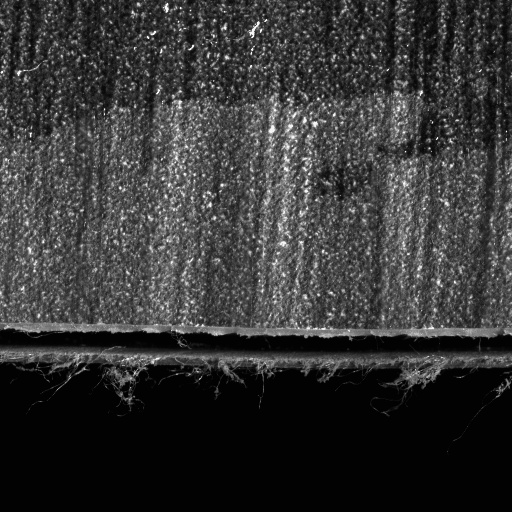kaijiao: (0, 318, 511, 374)
